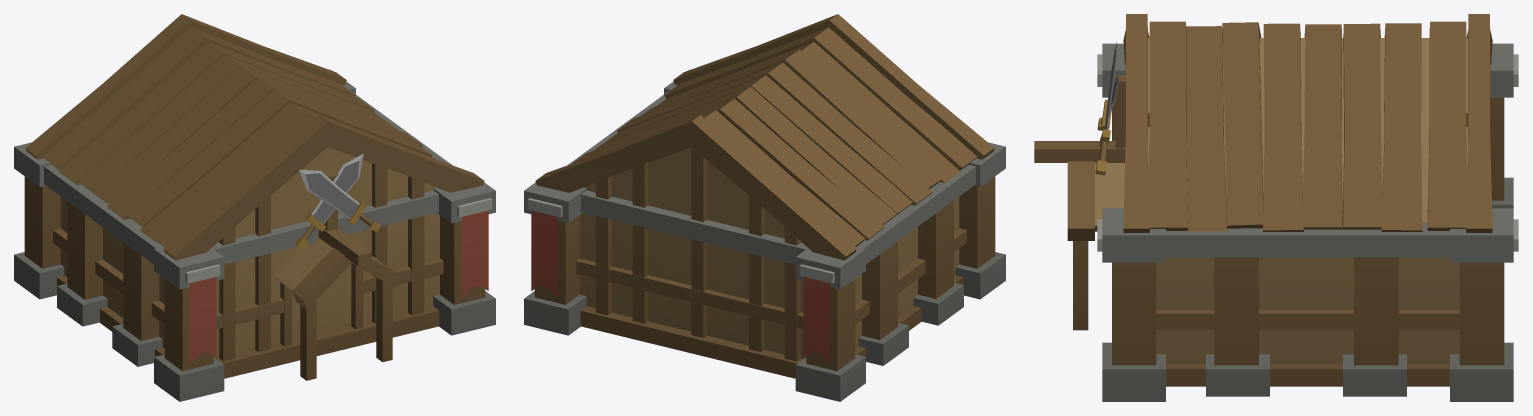
Rendered from tower-1-0.glb.
3 views of the same model, side by side, from view 1: azimuth 30°, elevation 25°; view 2: azimuth 150°, elevation 25°; view 3: azimuth 270°, elevation 25° (orthographic). The views are drawn at different scales.
Visible parts, largest first — view 1: tower:1-0; view 2: tower:1-0; view 3: tower:1-0.
Boxes of the visible parts, <box> form: tower:1-0: <box>14,14,495,401</box>; tower:1-0: <box>524,14,1005,401</box>; tower:1-0: <box>1034,14,1518,401</box>.
Bounding box in the file's own units: 2.25 × 1.6 × 2.4.
